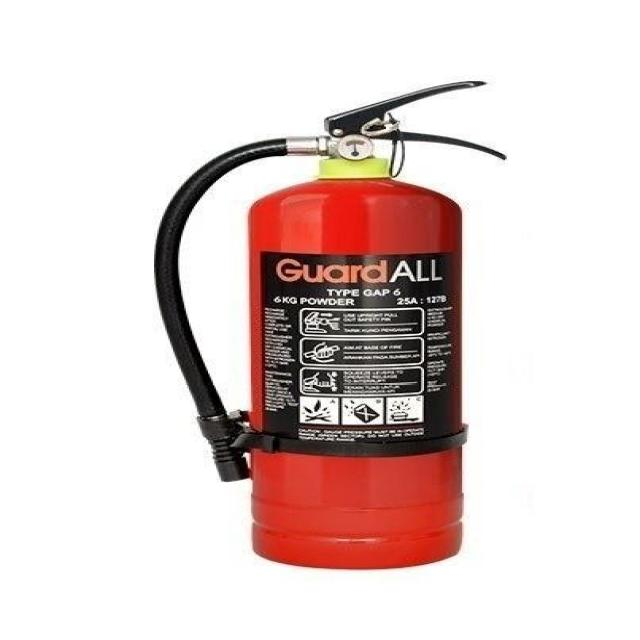fire_extinguisher: (142, 77, 511, 572)
